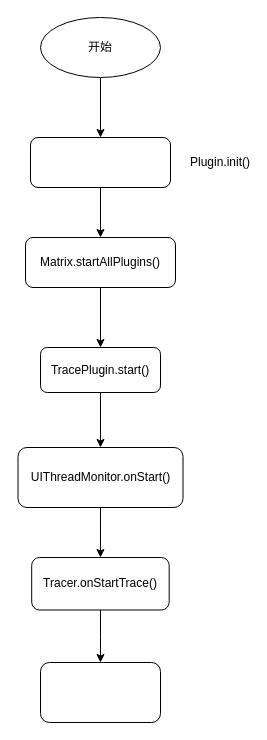
This 267x740 diagram has some shape labels left out. The centre of each missing label's shape, as x and y in pixels:
"Matrix.init()" belongs at pixel 100 162.
"Tracer.onAlive()" belongs at pixel 100 692.
